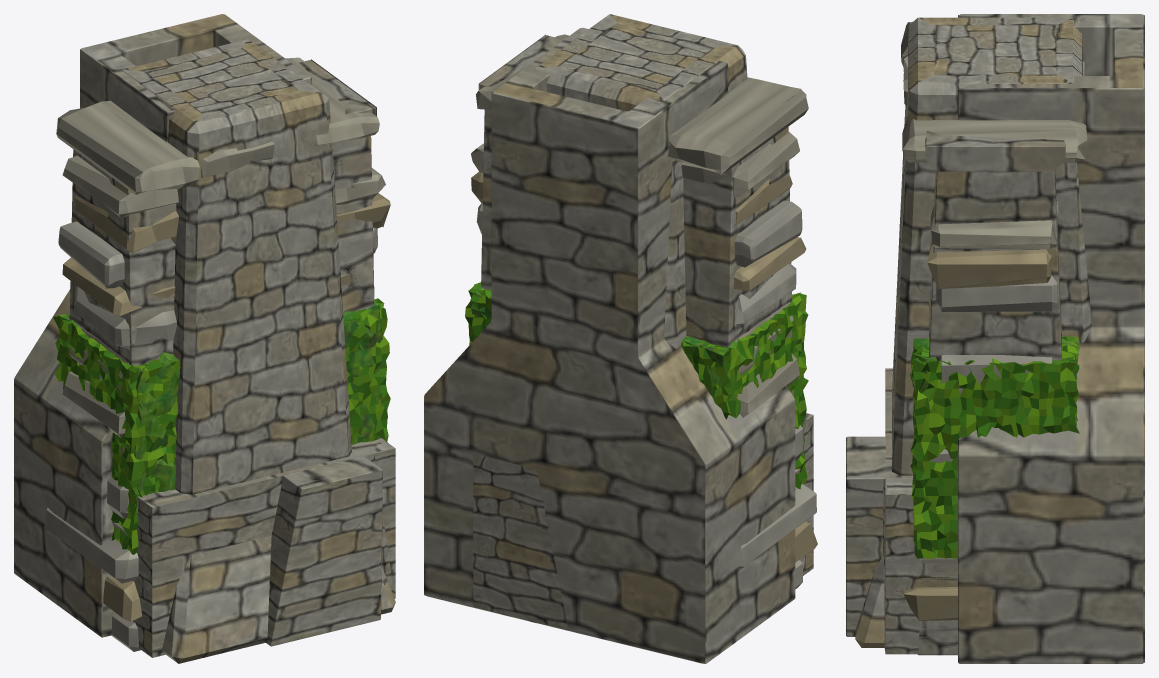
File: hedge-walls.glb
3 views of the same model, side by side, from view 1: azimuth 30°, elevation 25°; view 2: azimuth 150°, elevation 25°; view 3: azimuth 270°, elevation 25° (orthographic). The views are drawn at different scales.
Visible parts, largest first — view 1: HedgeWallPillar, HedgeWallRough, Hearth, CottageWallSkirtCorner, HedgeWall, HedgeCube, CottageWallSkirtConcaveCorner, HedgeBlock, CottageWallSkirt, HedgeWallHalf; view 2: Hearth, HedgeWallRough, HedgeWallPillar, HedgeWall, CottageWallSkirtConcaveCorner, HedgeCube, HedgeWallHalf, CottageWallSkirt, HedgeBlock; view 3: Hearth, HedgeWallPillar, HedgeWallRough, HedgeWall, HedgeCube, CottageWallSkirtCorner, CottageWallSkirt, HedgeWallHalf, HedgeBlock, CottageWallSkirtConcaveCorner.
Part boxes in pixels (x1=…): HedgeWallPillar: x1=122, y1=39, x2=395, y2=663; HedgeWallRough: x1=44, y1=57, x2=390, y2=651; Hearth: x1=14, y1=14, x2=311, y2=637; CottageWallSkirtCorner: x1=264, y1=439, x2=394, y2=646; HedgeWall: x1=69, y1=60, x2=375, y2=623; HedgeCube: x1=53, y1=298, x2=390, y2=554; CottageWallSkirtConcaveCorner: x1=137, y1=454, x2=362, y2=657; HedgeBlock: x1=57, y1=302, x2=382, y2=497; CottageWallSkirt: x1=135, y1=438, x2=395, y2=657; HedgeWallHalf: x1=299, y1=60, x2=374, y2=311; Hearth: x1=424, y1=27, x2=795, y2=663; HedgeWallRough: x1=471, y1=34, x2=817, y2=589; HedgeWallPillar: x1=534, y1=14, x2=813, y2=552; HedgeWall: x1=479, y1=35, x2=792, y2=347; CottageWallSkirtConcaveCorner: x1=473, y1=413, x2=812, y2=629; HedgeCube: x1=465, y1=282, x2=808, y2=489; HedgeWallHalf: x1=480, y1=35, x2=563, y2=289; CottageWallSkirt: x1=800, y1=413, x2=813, y2=575; HedgeBlock: x1=471, y1=286, x2=803, y2=395; Hearth: x1=958, y1=14, x2=1144, y2=663; HedgeWallPillar: x1=855, y1=17, x2=1092, y2=647; HedgeWallRough: x1=901, y1=21, x2=1087, y2=620; HedgeWall: x1=918, y1=131, x2=1065, y2=655; HedgeCube: x1=910, y1=336, x2=1079, y2=558; CottageWallSkirtCorner: x1=846, y1=436, x2=912, y2=651; CottageWallSkirt: x1=885, y1=368, x2=957, y2=654; HedgeWallHalf: x1=918, y1=131, x2=1064, y2=654; HedgeBlock: x1=910, y1=336, x2=1080, y2=553; CottageWallSkirtConcaveCorner: x1=885, y1=368, x2=913, y2=477.
Size of the model in its own units: 1.16 by 2.05 by 1.
Materials: 6 (2 with a texture image).
